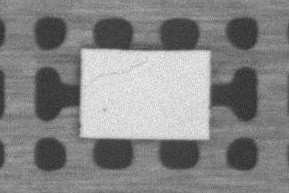DIE_INK: (103, 108, 109, 115)
